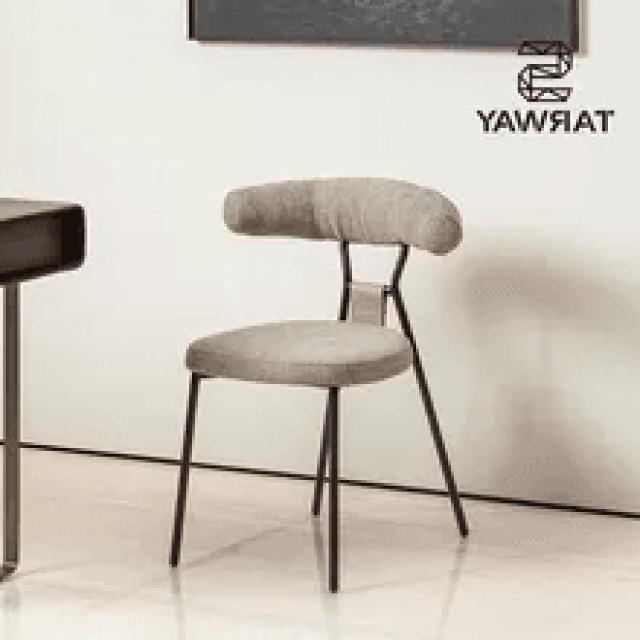chair: (164, 171, 466, 592), (184, 172, 466, 388)
